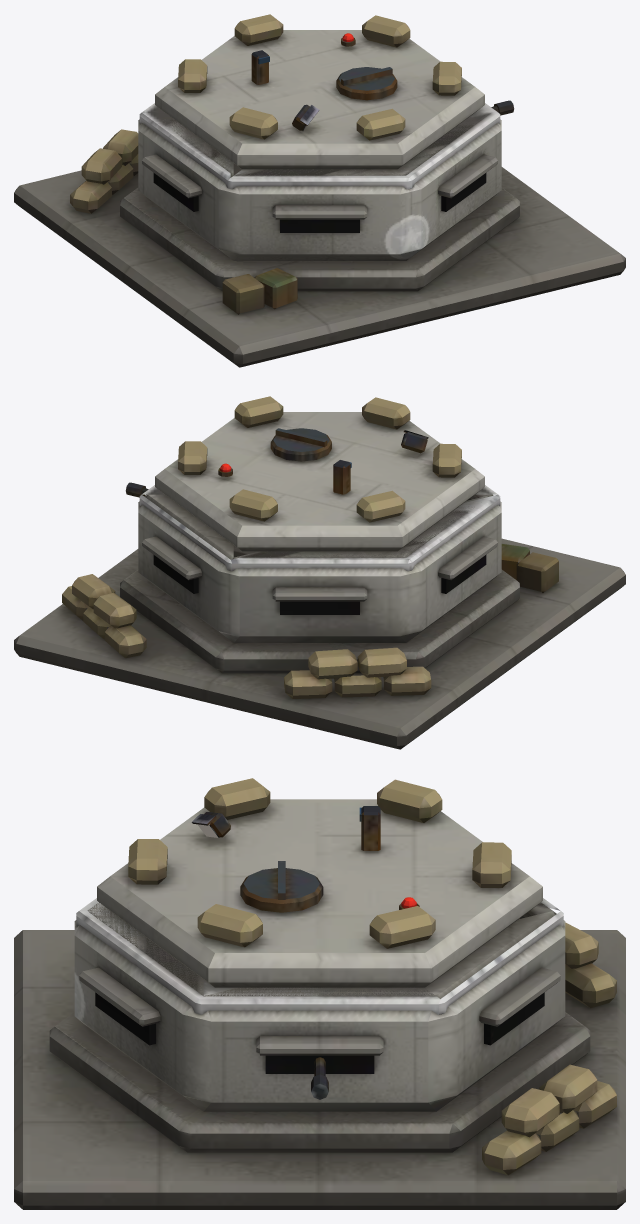
Rendered from pbox.allies.glb.
3 renders of one model, top to bottom at view 1: azimuth 30°, elevation 25°; view 2: azimuth 150°, elevation 25°; view 3: azimuth 270°, elevation 25°, orthographic. The views are drawn at different scales.
Parts seen in each view (by area): view 1: root_mesh; view 2: root_mesh; view 3: root_mesh.
Part boxes in pixels (<box>): root_mesh: <box>14,14,625,367</box>; root_mesh: <box>14,396,625,749</box>; root_mesh: <box>14,778,625,1209</box>.
Bounding box in the file's own units: 0.96 × 0.43 × 0.96.
Materials: 1 (1 with a texture image).
